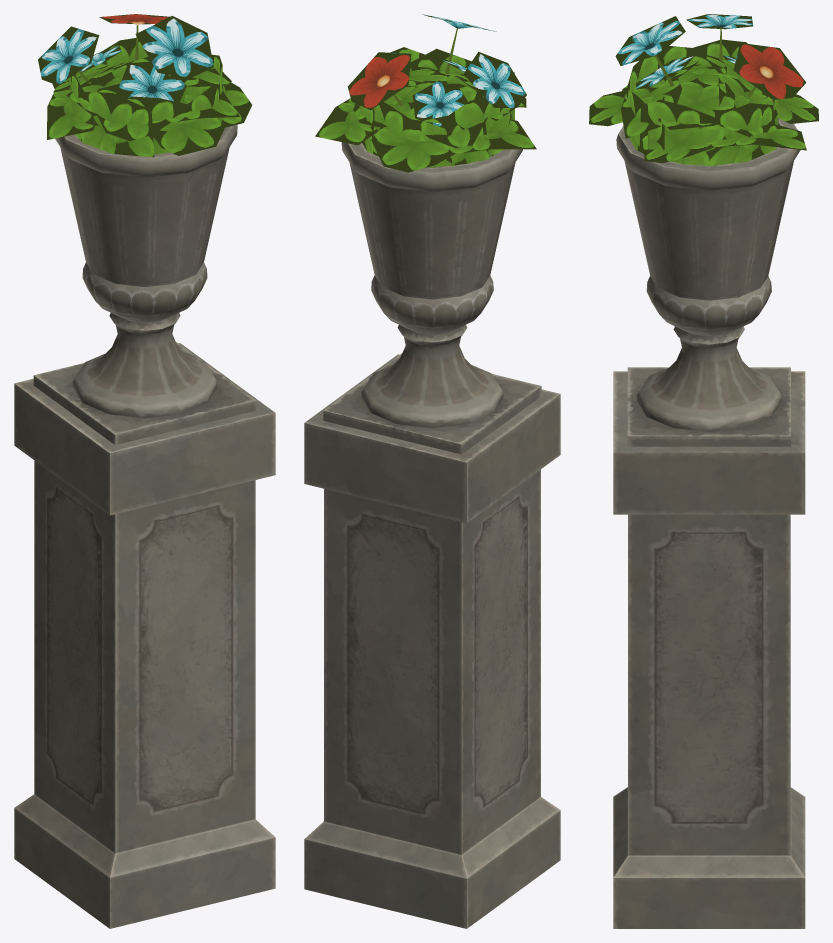
File: balustrade_pillar_02.fbx
3 renders of one model, left to right at view 1: azimuth 30°, elevation 25°; view 2: azimuth 150°, elevation 25°; view 3: azimuth 270°, elevation 25°, orthographic. The views are drawn at different scales.
Parts seen in each view (by area): view 1: balustrade_pillar_02, balustrade_pillar_02_plants; view 2: balustrade_pillar_02, balustrade_pillar_02_plants; view 3: balustrade_pillar_02, balustrade_pillar_02_plants.
Boxes of the visible parts, left/top/right/bottom form: balustrade_pillar_02: left=14, top=125, right=275, bottom=928; balustrade_pillar_02_plants: left=38, top=14, right=251, bottom=157; balustrade_pillar_02: left=304, top=142, right=560, bottom=928; balustrade_pillar_02_plants: left=315, top=14, right=536, bottom=172; balustrade_pillar_02: left=613, top=118, right=805, bottom=928; balustrade_pillar_02_plants: left=589, top=14, right=818, bottom=165.
Bounding box in the file's own units: 41.81 × 184 × 44.28.
